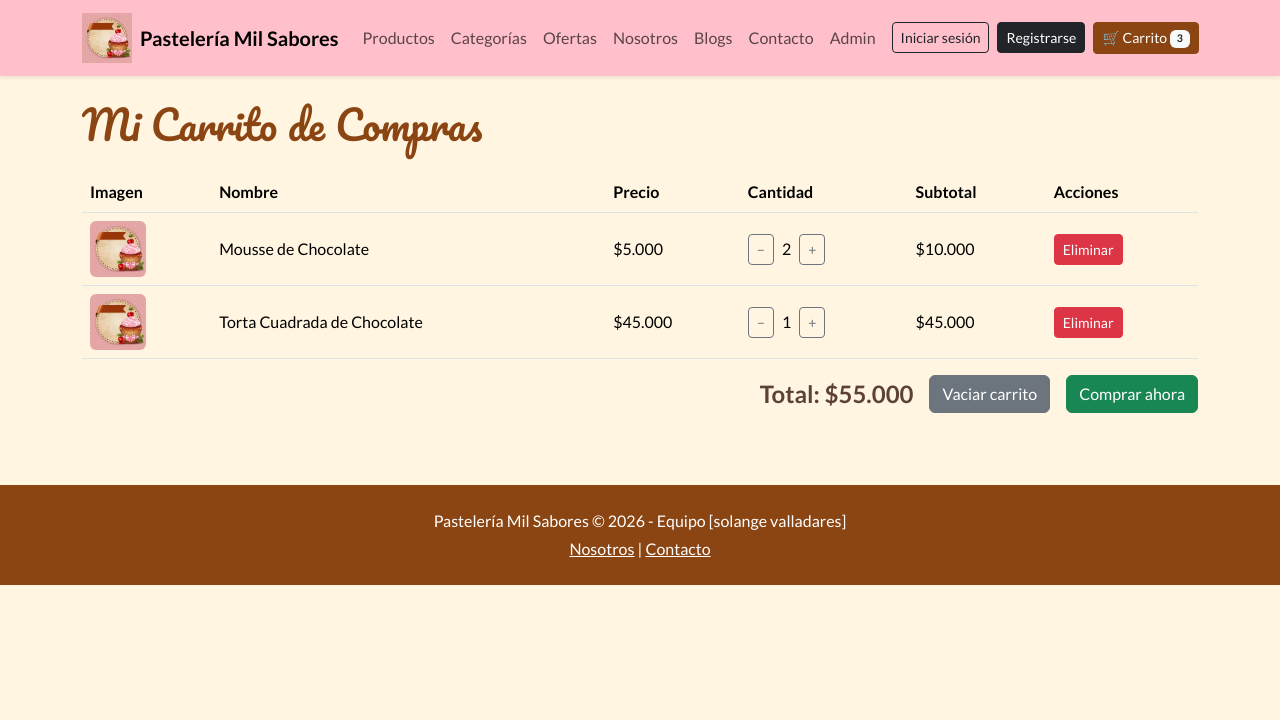
<App /> (navegación y estado compartido) › en el carrito se puede restar, sumar, eliminar y vaciar
Expected: the button "🛒 Carrito 3" is shown, [1093, 22, 1199, 54]
Click the button named "Restar Mousse de Chocolate": (761, 249) [748, 234, 774, 264]
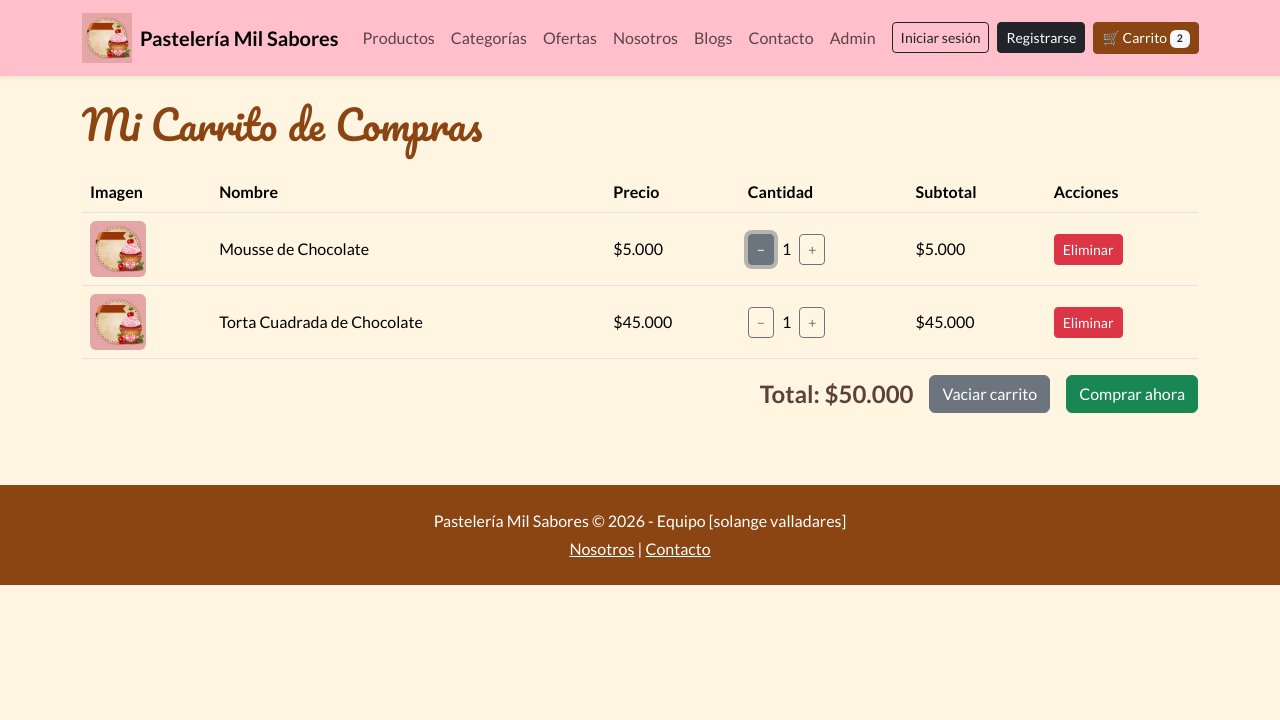
Now the button "🛒 Carrito 2" is shown, box [1093, 22, 1199, 54]
Click the button named "Sumar Mousse de Chocolate": (812, 249) [799, 234, 825, 264]
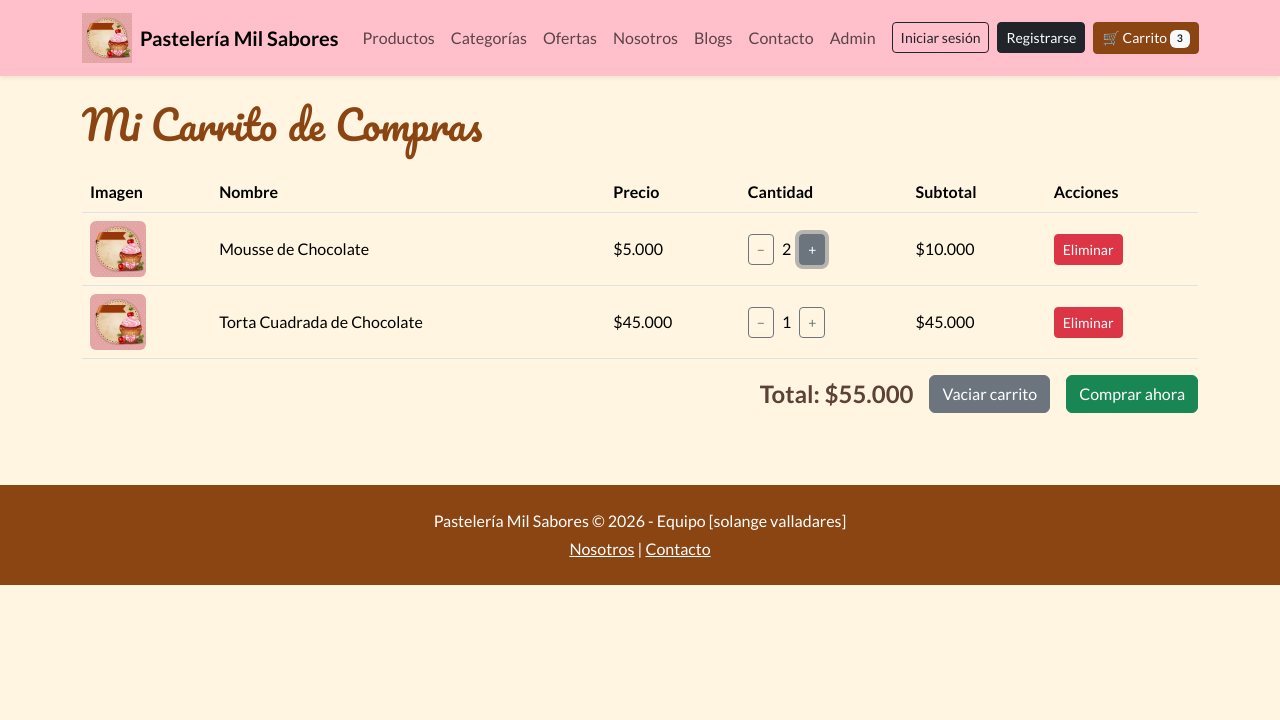
Now the button "🛒 Carrito 3" is shown, box [1093, 22, 1199, 54]
Click the button "Eliminar" in the row of "Torta Cuadrada de Chocolate": (1088, 322) [1054, 306, 1123, 338]
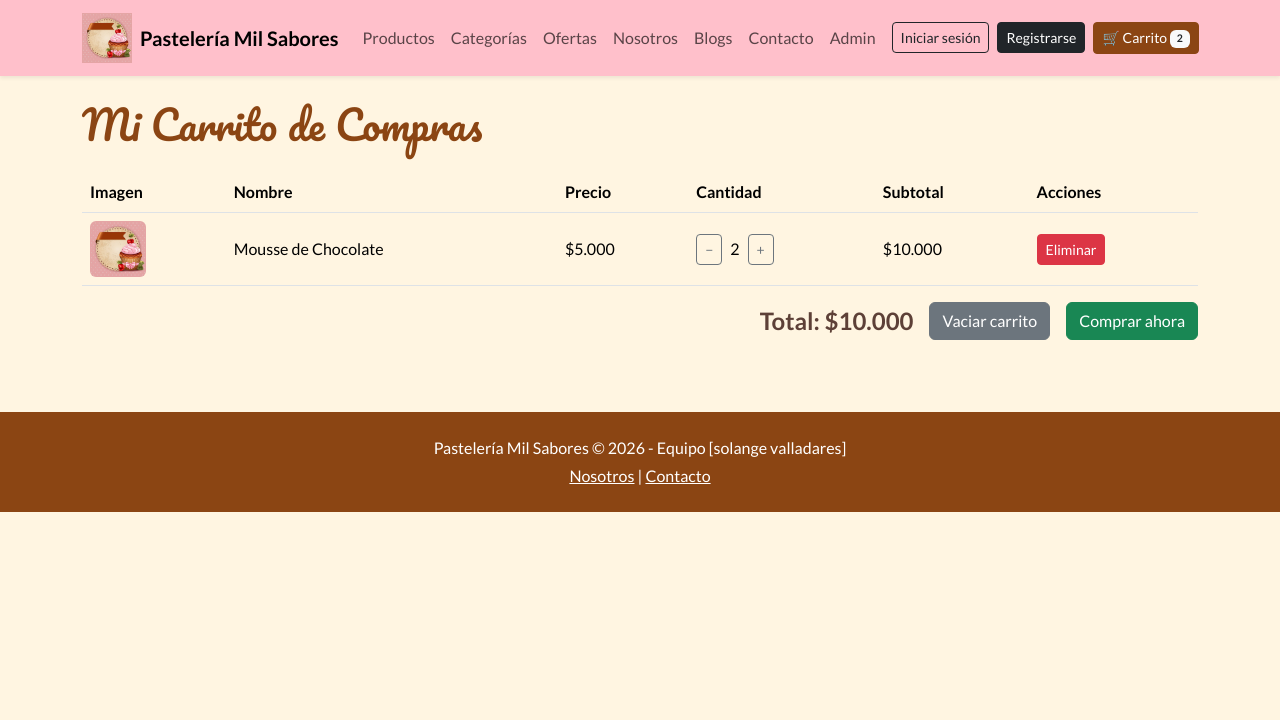
Now the text "Torta Cuadrada de Chocolate" is gone
Click the button "Vaciar carrito": (990, 321) [930, 302, 1050, 340]
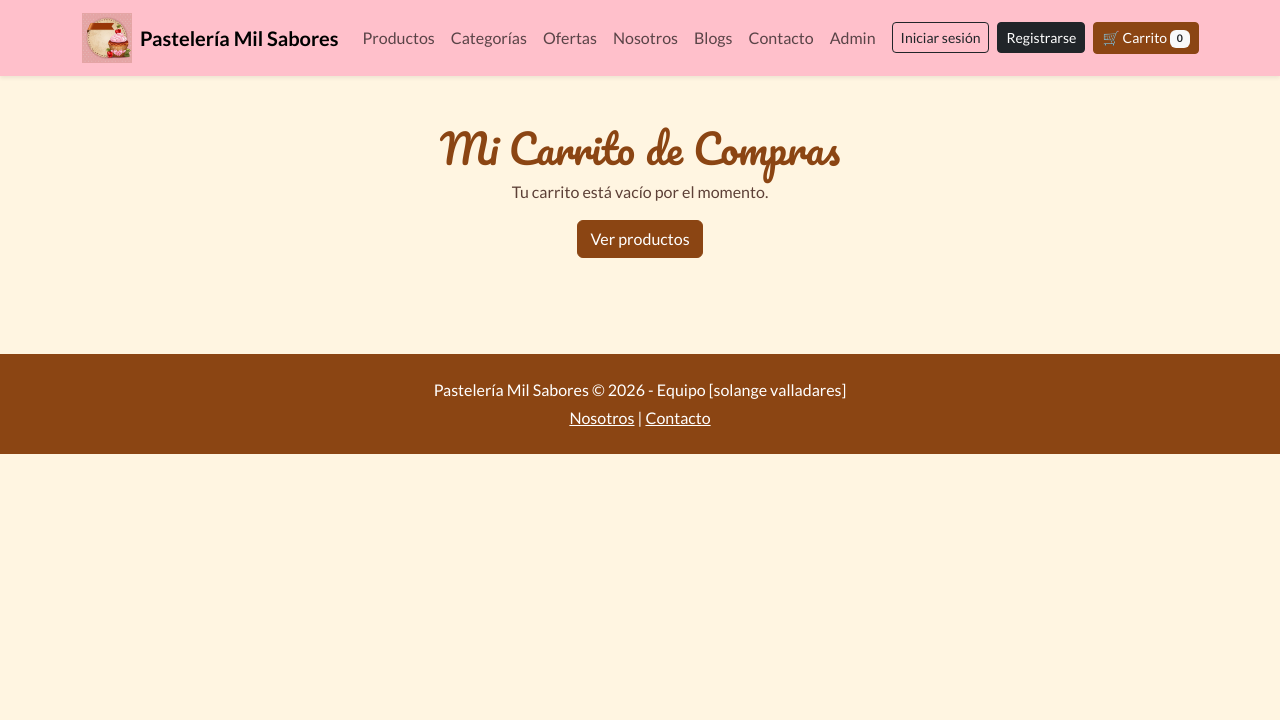
Now the text "Tu carrito está vacío por el momento." is shown, box [512, 182, 768, 201]
